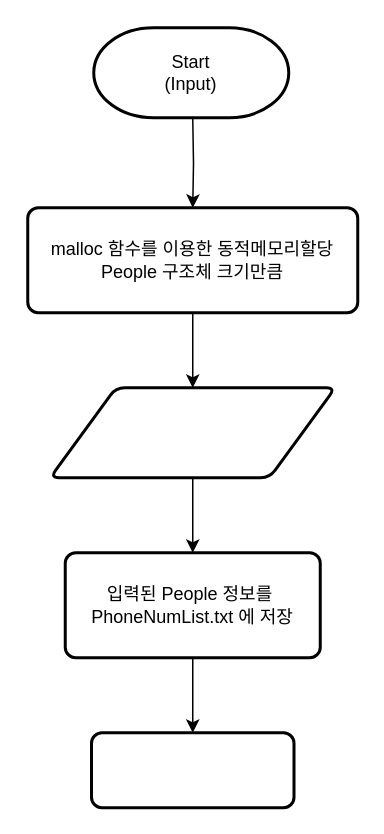
This 384x834 diagram has some shape labels left out. The shapes that lost their labels are listed below. From the top down, each one's box as (x1, y1, x2, y2) in pixels, then its label:
(48, 386, 336, 478): People 정보 입력: PhoneNum, Name
(89, 730, 295, 808): Input 함수 종료 -> main 함수로 복귀
